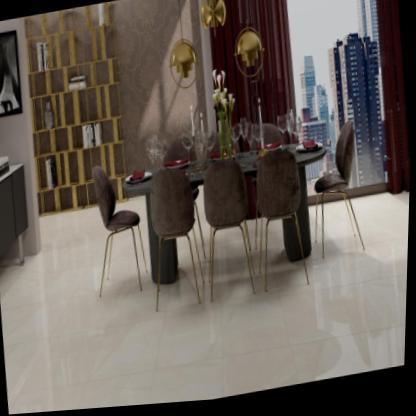Ceramic floor: (0, 248, 410, 415), (0, 212, 129, 415), (346, 194, 411, 374)
Curtains: (205, 0, 295, 128), (375, 0, 411, 201)
Dining Table: (86, 107, 375, 321)
Frame: (0, 29, 23, 119)
Shelf: (19, 1, 133, 224)
Window: (283, 0, 391, 200)
